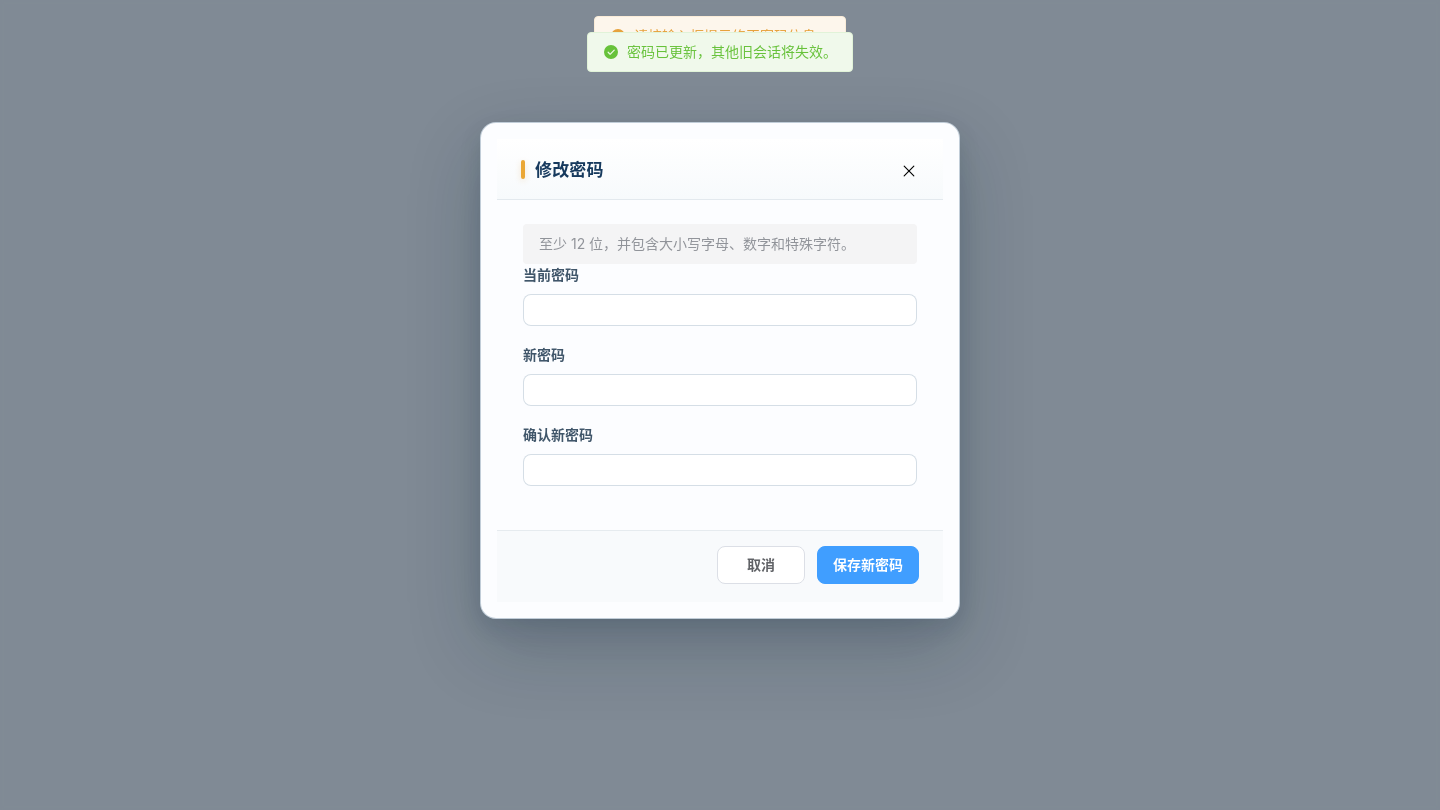
Test: ChangePasswordDialog › renders backend validation beside the matching password field
Type "WrongCurrentPassword12!" into the password field labelled "当前密码" at (720, 310), box [534,295,906,325]
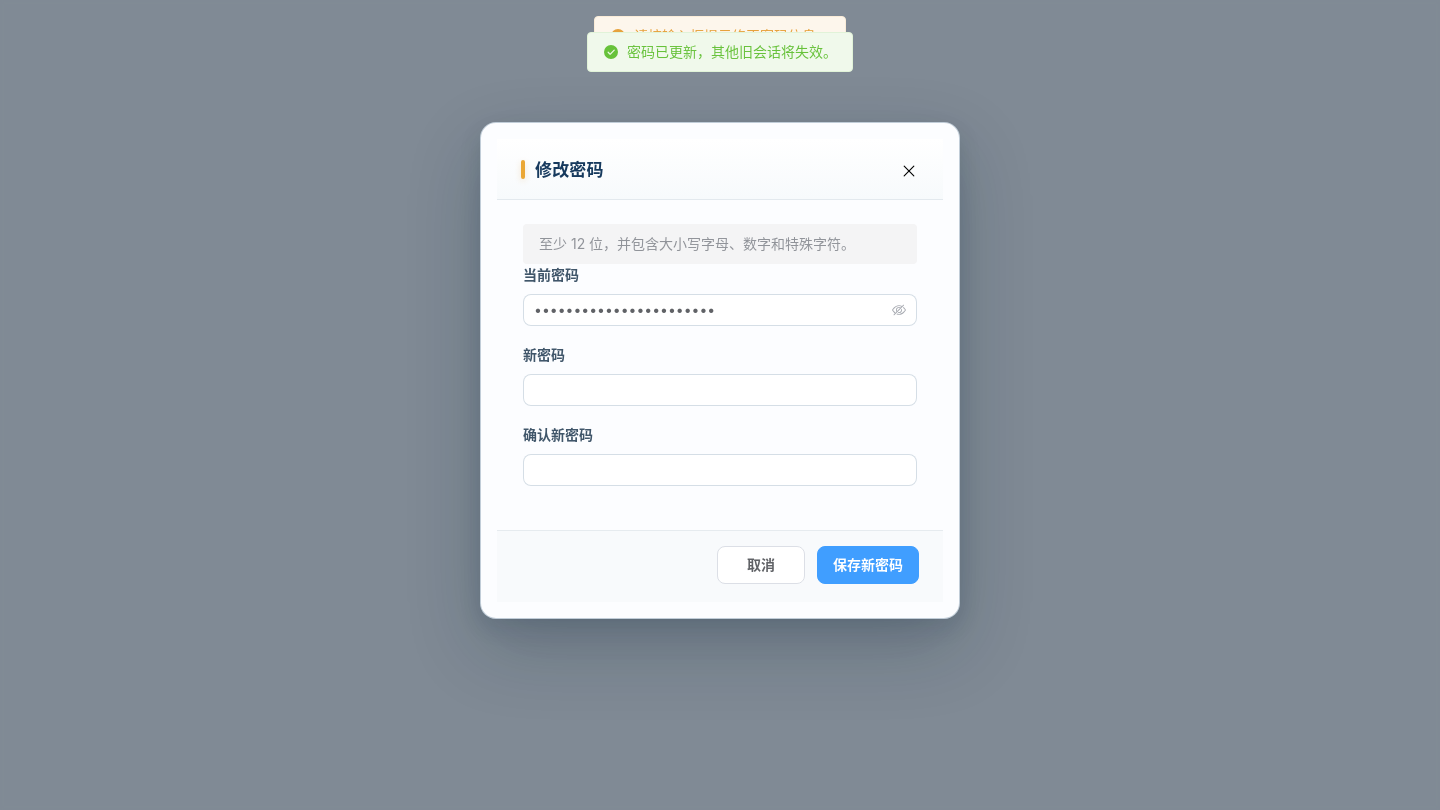
Type "ReplacementPassword12!" into the password field labelled "新密码" at (720, 390), box [534,375,906,405]
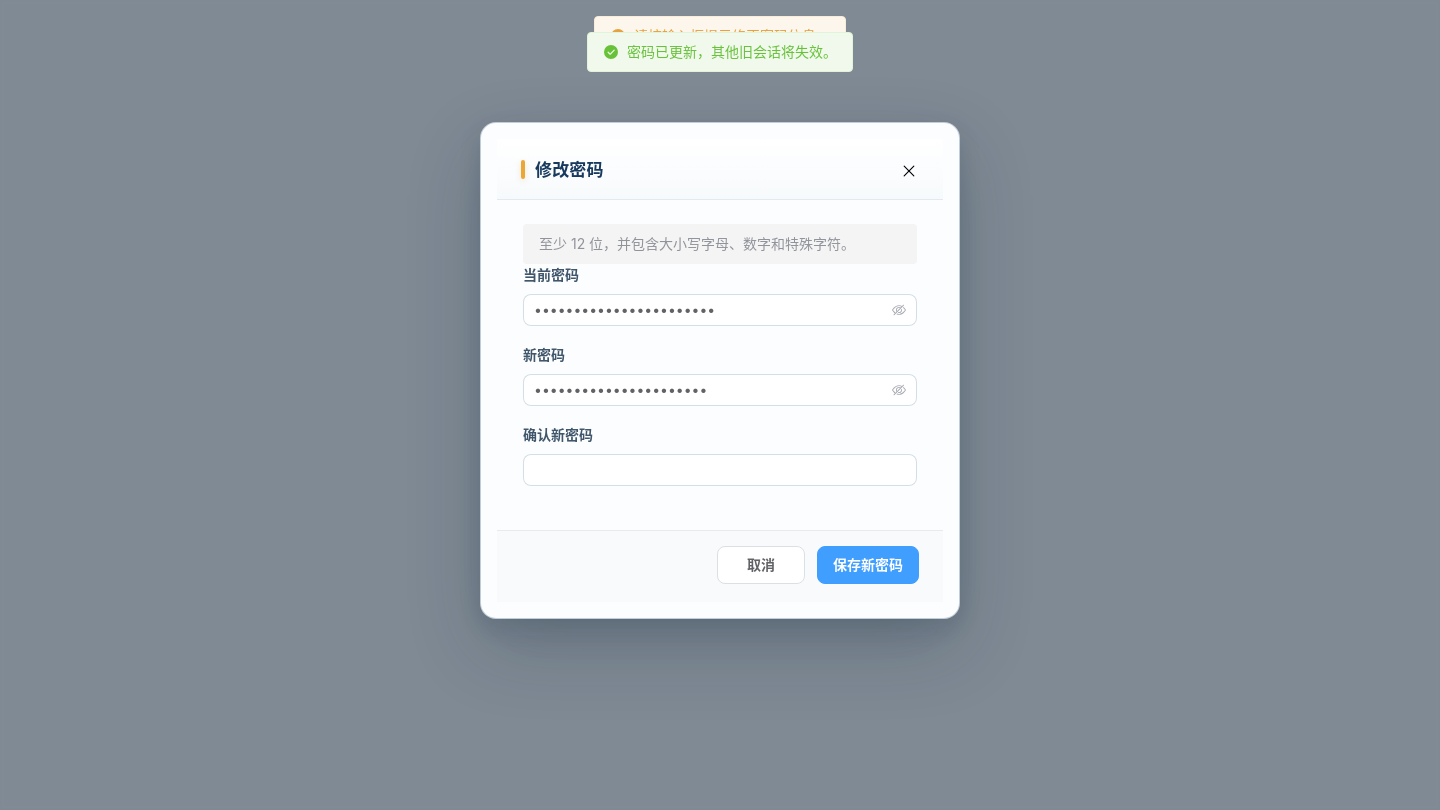
Type "ReplacementPassword12!" into the password field labelled "确认新密码" at (720, 470), box [534,455,906,485]
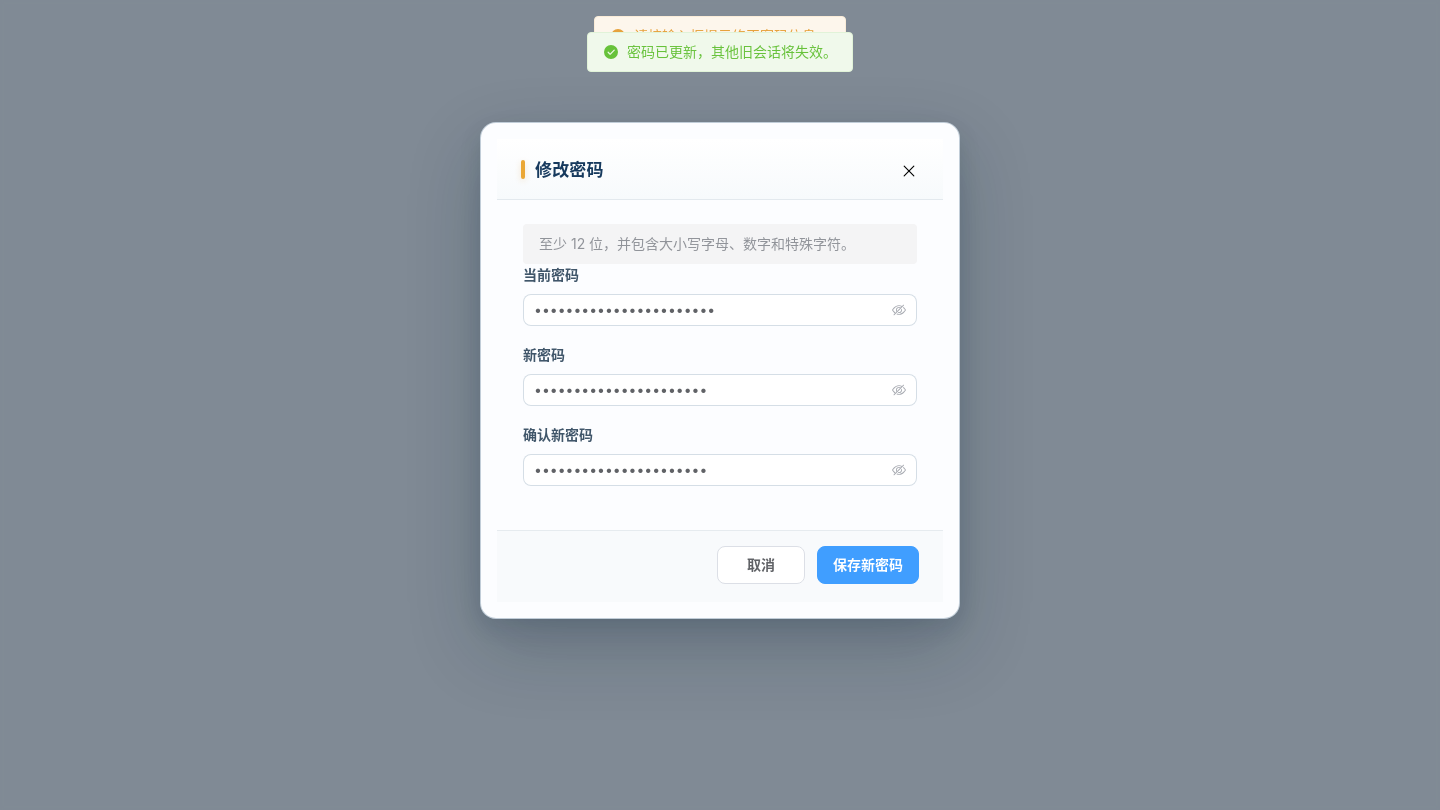
Click the button "保存新密码" at (868, 565), box [817,546,919,584]
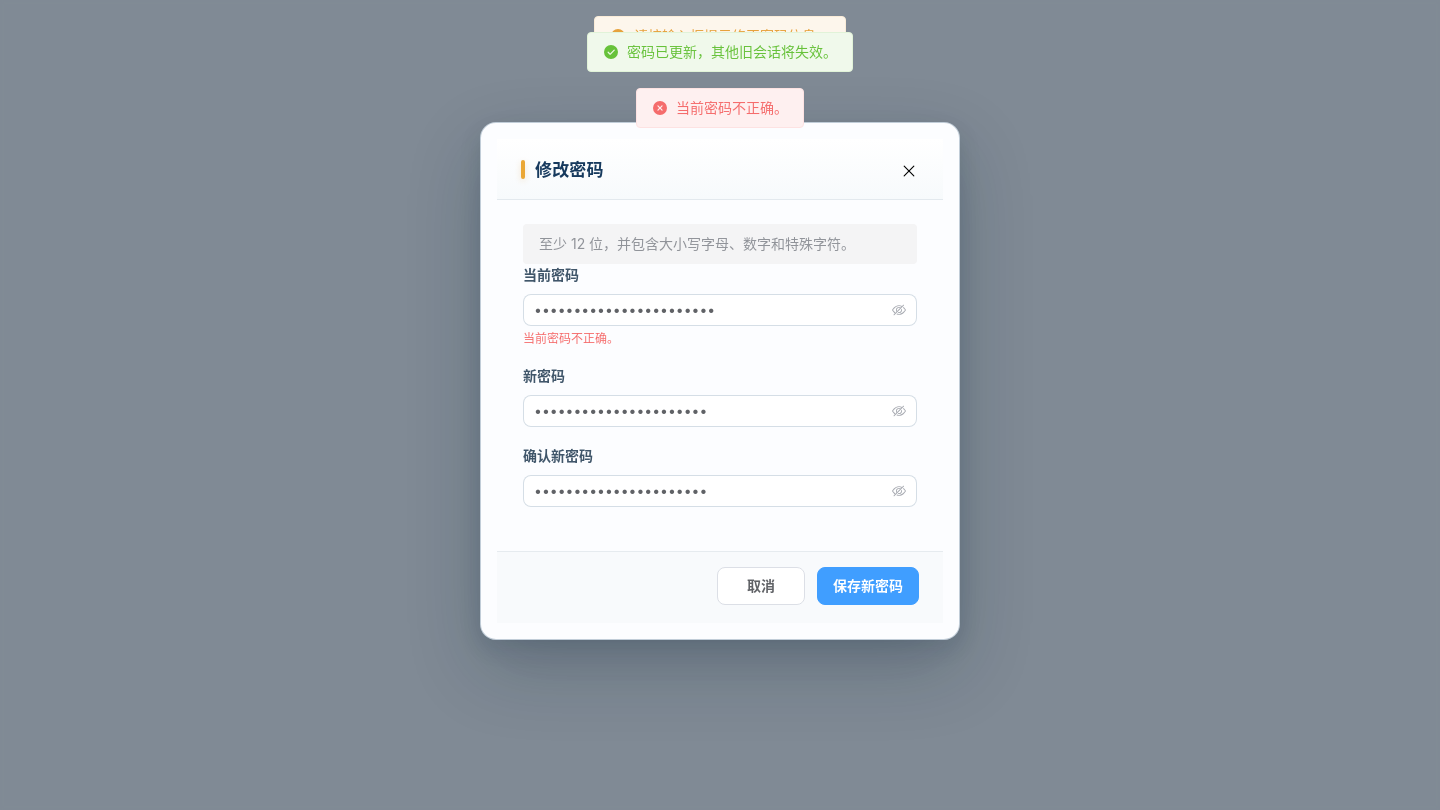
Expected: the text "当前密码不正确。" is shown, [523,331,619,346]
